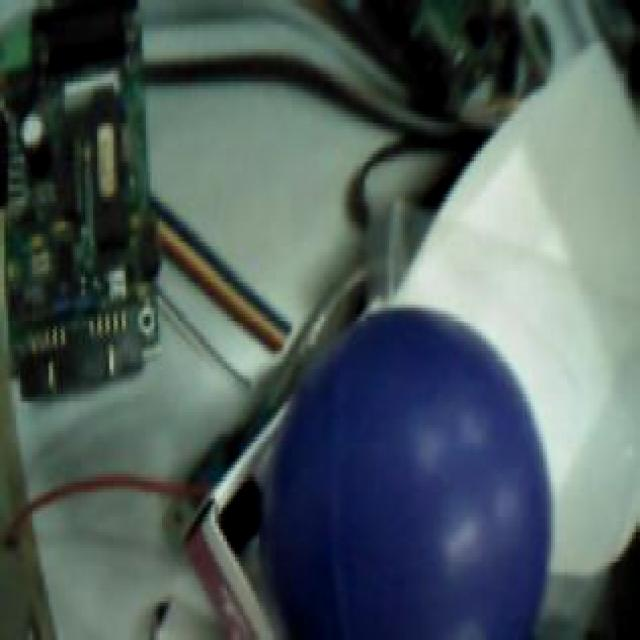BallPurple: (265, 307, 552, 640)
